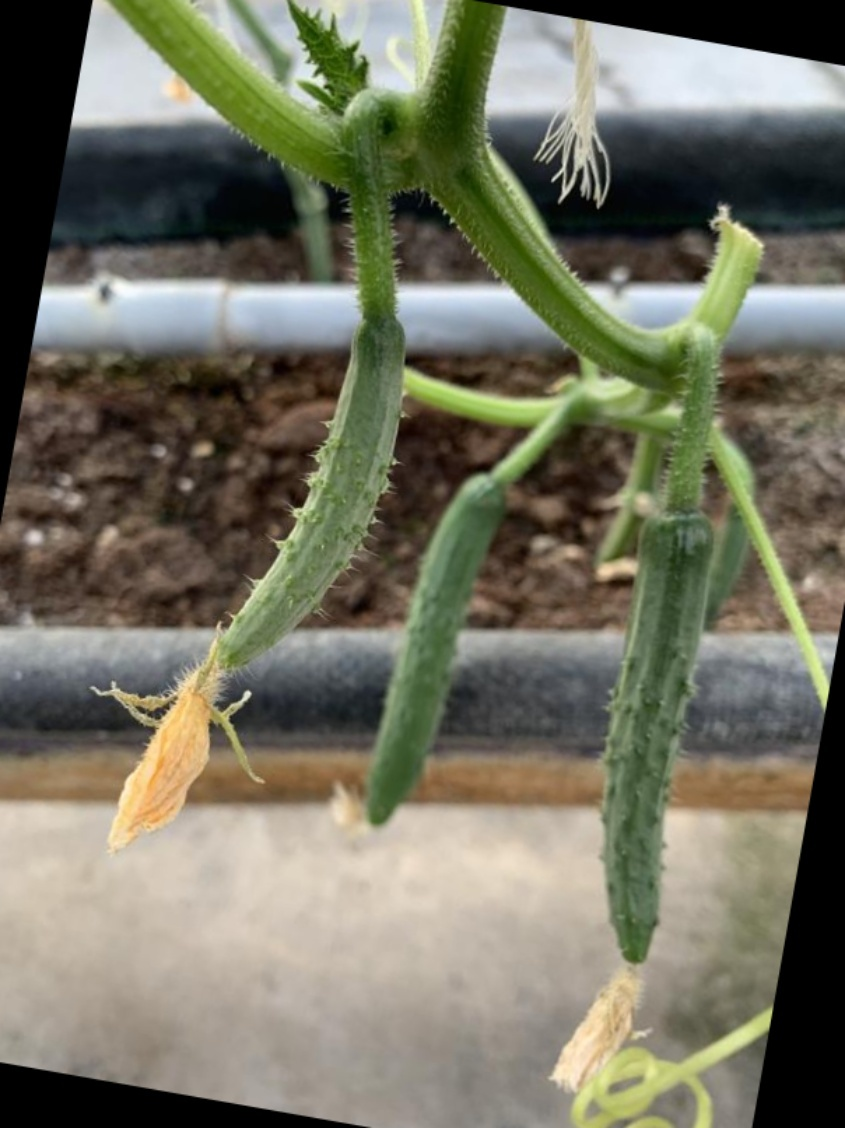bear: (83, 315, 445, 849)
growth: (355, 467, 514, 827)
